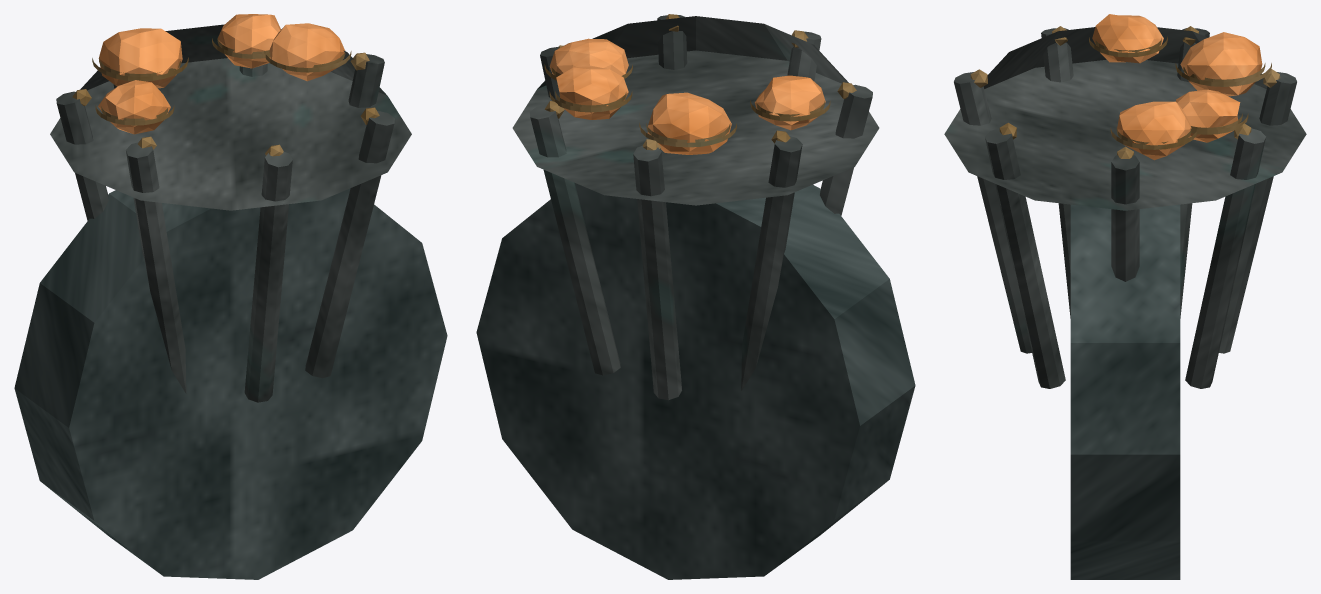
The model's file is 0547_brazier_22.glb.
3 renders of one model, left to right at view 1: azimuth 30°, elevation 25°; view 2: azimuth 150°, elevation 25°; view 3: azimuth 270°, elevation 25°, orthographic.
Parts seen in each view (by area): view 1: stone_dark, iron, amber, brass; view 2: stone_dark, iron, amber, brass; view 3: iron, stone_dark, amber, brass.
Part boxes in pixels (box(x1,y1,x2,y2)): stone_dark: box(14, 188, 447, 579); iron: box(50, 24, 411, 402); amber: box(98, 14, 345, 134); brass: box(72, 38, 379, 156); stone_dark: box(476, 183, 915, 579); iron: box(512, 15, 879, 400); amber: box(549, 38, 825, 154); brass: box(544, 14, 856, 150); iron: box(944, 27, 1306, 388); stone_dark: box(1070, 204, 1180, 579); amber: box(1092, 14, 1262, 160); brass: box(970, 26, 1280, 158).
Bounding box in the file's own units: 1.4 × 1.77 × 1.16.
4 materials, 4 textured.
